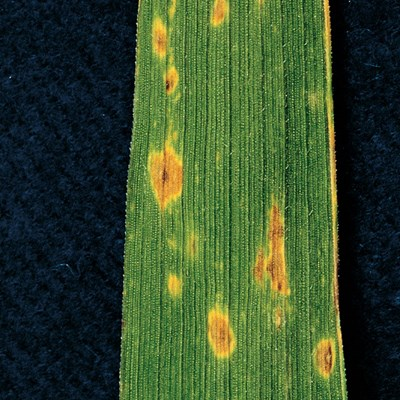Leaf: (136, 1, 347, 398)
Tan Spot: (255, 200, 293, 294), (148, 10, 183, 94), (145, 143, 185, 205), (201, 302, 241, 358), (310, 332, 338, 381)
